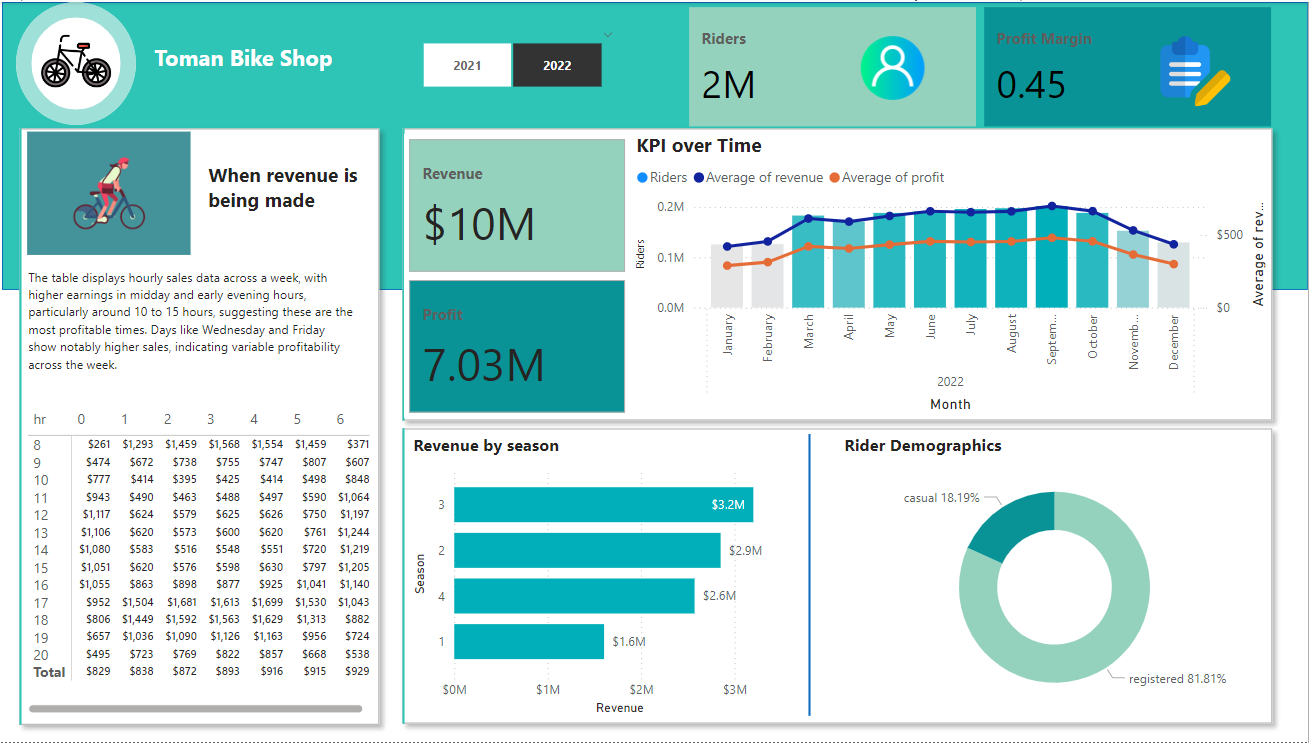

What the dashboard file says about the page in this screenshot:
{"tool":"powerbi","page":{"name":"Dashboard","canvas":[1280,720],"ordinal":0},"visuals":[{"type":"shape","box":[9.7,0,1270.3,280.1],"z":0},{"type":"cardVisual","fields":{"Data":["Min(Query1.riders)"]},"box":[9.7,106,384.2,614.7],"z":1000},{"type":"cardVisual","fields":{"Data":["Min(Query1.riders)"]},"box":[382.2,106,880.2,318.1],"z":2000},{"type":"cardVisual","fields":{"Data":["Min(Query1.riders)"]},"box":[382.2,397.8,880.2,321.9],"z":3000},{"type":"cardVisual","fields":{"Data":["Min(Query1.riders)"]},"box":[30.2,106,171.2,164.4],"z":4000},{"type":"pivotTable","fields":{"Values":["Avg(Query1.revenue)"],"Columns":["Query1.weekday"],"Rows":["Query1.hr"]},"box":[30.2,391,342.4,306.4],"z":5000},{"type":"textbox","box":[205.2,149.8,167.3,96.3],"z":6000},{"type":"textbox","box":[30.2,252.9,327.8,119.6],"z":7000},{"type":"lineClusteredColumnComboChart","title":"KPI over Time","fields":{"Category":["Query1.dteday.Variation.Date Hierarchy.Year","Query1.dteday.Variation.Date Hierarchy.Month"],"Y":["Sum(Query1.riders)"],"Y2":["Avg(Query1.revenue)","Avg(Query1.profit)"]},"box":[621.5,125.5,621.5,279.1],"z":8000},{"type":"clusteredBarChart","fields":{"Category":["Query1.season"],"Y":["Sum(Query1.revenue)"]},"box":[404.6,420.2,384.2,277.2],"z":9000},{"type":"donutChart","title":"Rider Demographics","fields":{"Category":["Query1.rider_type"],"Y":["Sum(Query1.riders)"]},"box":[823.8,420.2,419.2,277.2],"z":10000},{"type":"shape","box":[788.8,420.2,12.6,274.3],"z":11000},{"type":"cardVisual","title":"KPI over Time","fields":{"Data":["Sum(Query1.revenue)","Sum(Query1.profit)"]},"box":[400.7,128.4,220.8,276.2],"z":12000},{"type":"cardVisual","fields":{"Data":["Sum(Query1.riders)","Query1.Profit Margin"]},"box":[673.1,0,577.8,126.4],"z":13000},{"type":"image","box":[1123.4,28.2,94.3,77.8],"z":14000},{"type":"image","box":[819,28.2,113.8,72],"z":15000},{"type":"textbox","box":[152.7,34,187.7,46.7],"z":16000},{"type":"shape","box":[23.3,0,116.7,119.6],"z":16001},{"type":"image","box":[42.8,17.5,77.8,79.8],"z":16002},{"type":"slicer","fields":{"Values":["Query1.Years"]},"box":[393.9,25.3,222.7,64.2],"z":16003}]}

Visuals, with their boxes in screenshot pixels (x1, y1, x2, y2), scaled from the page's 1280x720 canvas onto the 1309x743 screenshot:
shape: x1=10 y1=0 x2=1308 y2=289
cardVisual - Min(Query1.riders): x1=10 y1=109 x2=403 y2=742
cardVisual - Min(Query1.riders): x1=391 y1=109 x2=1291 y2=438
cardVisual - Min(Query1.riders): x1=391 y1=411 x2=1291 y2=742
cardVisual - Min(Query1.riders): x1=31 y1=109 x2=206 y2=279
pivotTable - Avg(Query1.revenue) x Query1.weekday: x1=31 y1=403 x2=381 y2=720
textbox: x1=210 y1=155 x2=381 y2=254
textbox: x1=31 y1=261 x2=366 y2=384
"KPI over Time" lineClusteredColumnComboChart: x1=636 y1=130 x2=1271 y2=418
clusteredBarChart - Query1.season x Sum(Query1.revenue): x1=414 y1=434 x2=807 y2=720
"Rider Demographics" donutChart: x1=842 y1=434 x2=1271 y2=720
shape: x1=807 y1=434 x2=820 y2=717
"KPI over Time" cardVisual: x1=410 y1=133 x2=636 y2=418
cardVisual - Sum(Query1.riders) x Query1.Profit Margin: x1=688 y1=0 x2=1279 y2=130
image: x1=1149 y1=29 x2=1245 y2=109
image: x1=838 y1=29 x2=954 y2=103
textbox: x1=156 y1=35 x2=348 y2=83
shape: x1=24 y1=0 x2=143 y2=123
image: x1=44 y1=18 x2=123 y2=100
slicer - Query1.Years: x1=403 y1=26 x2=631 y2=92
